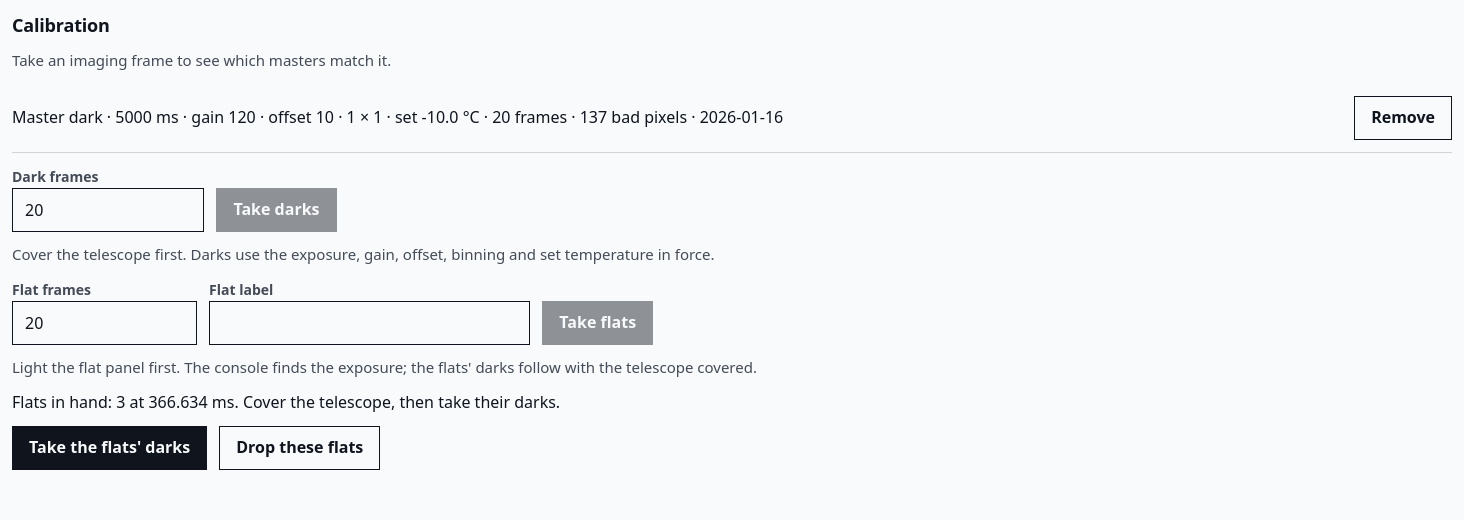
US9-S3: taking darks and flats › shows a refusal unchanged for Take the flats' darks without onChange
The image size is (1464, 520).
Type "desk" into the field labelled "Flat label".
click(370, 323); type("desk")  # box [209,301,530,345]
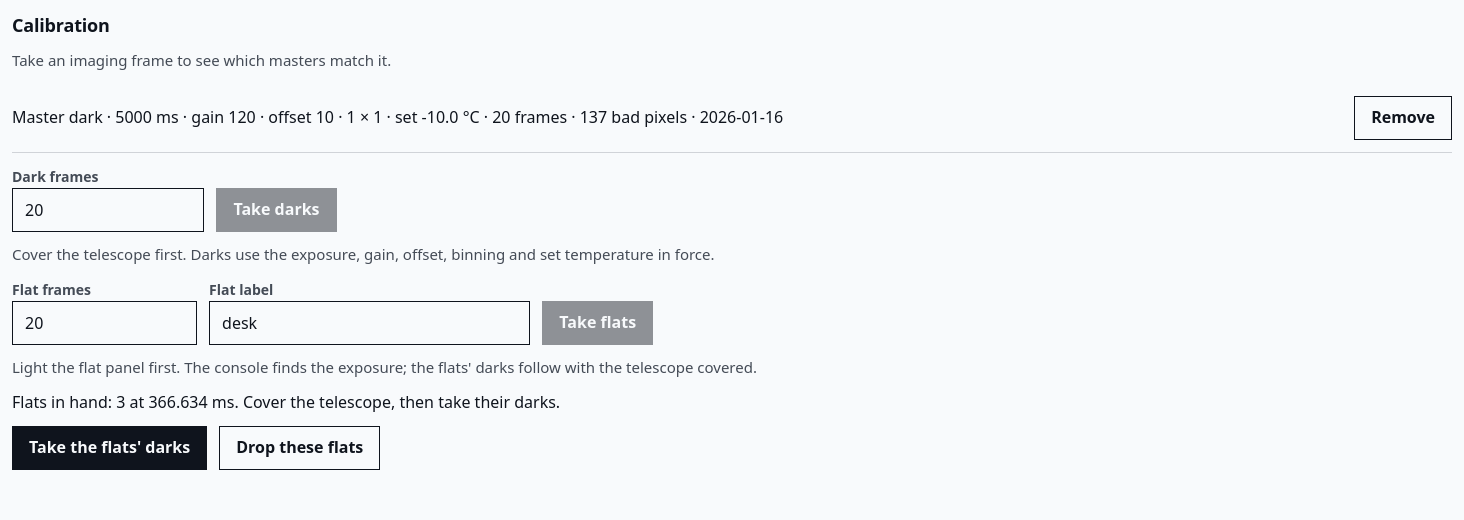
Click the button "Take the flats' darks".
click(110, 448)  # box [12,426,207,470]
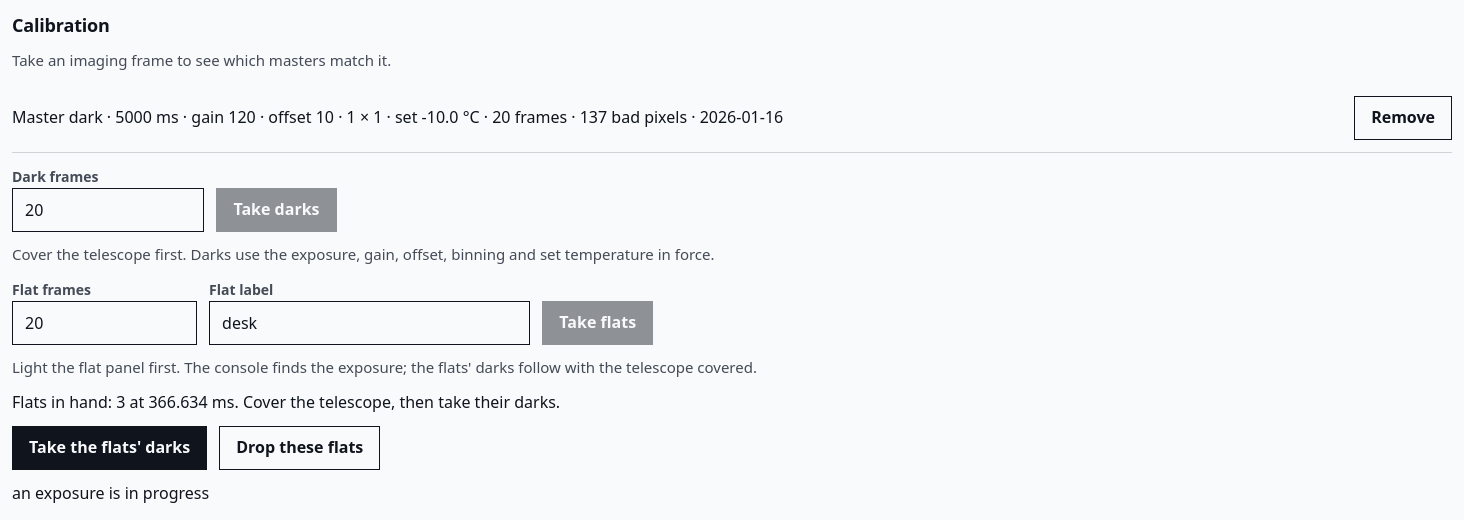
Expected: the message "an exposure is in progress" is shown, [12,482,209,504]
